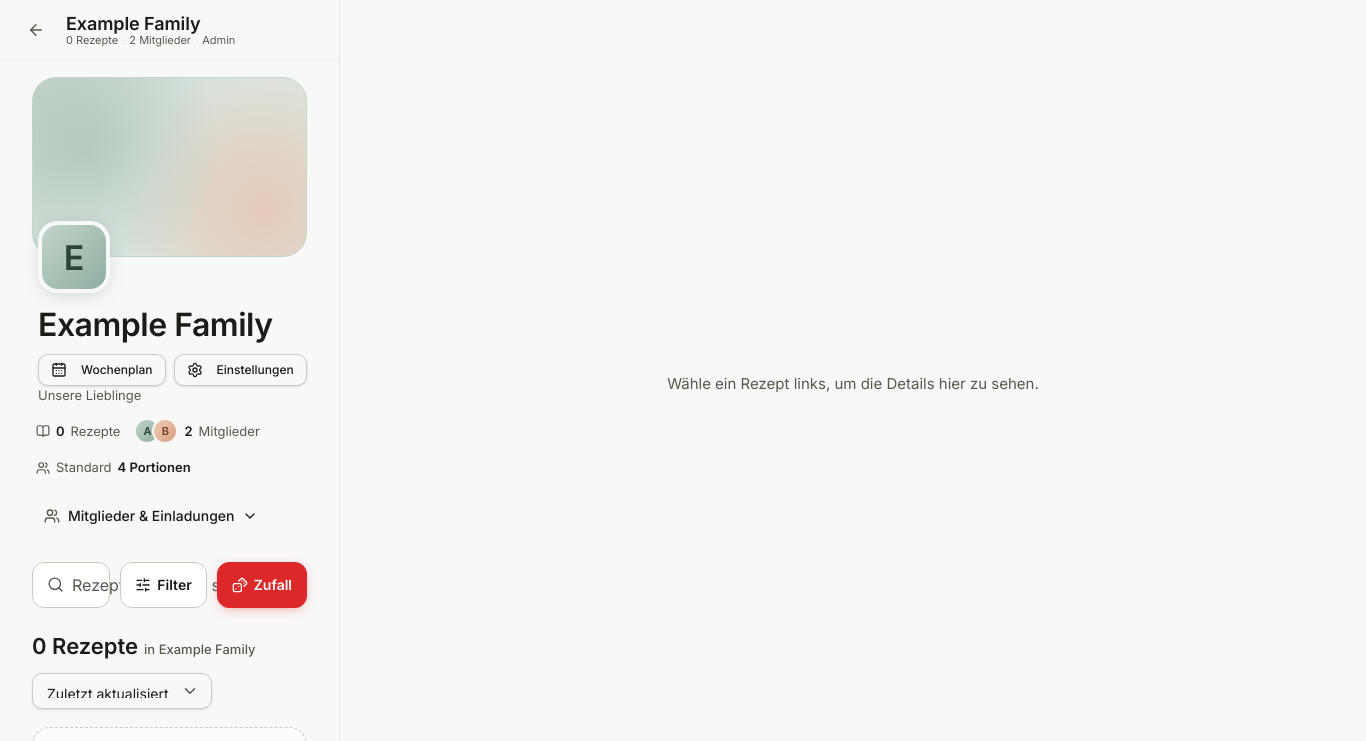
Test: <GroupDetailPage /> › Zufall surfaces a German message when no recipe matches
Click the button "Zufall": point(262, 585) [217,562,307,608]
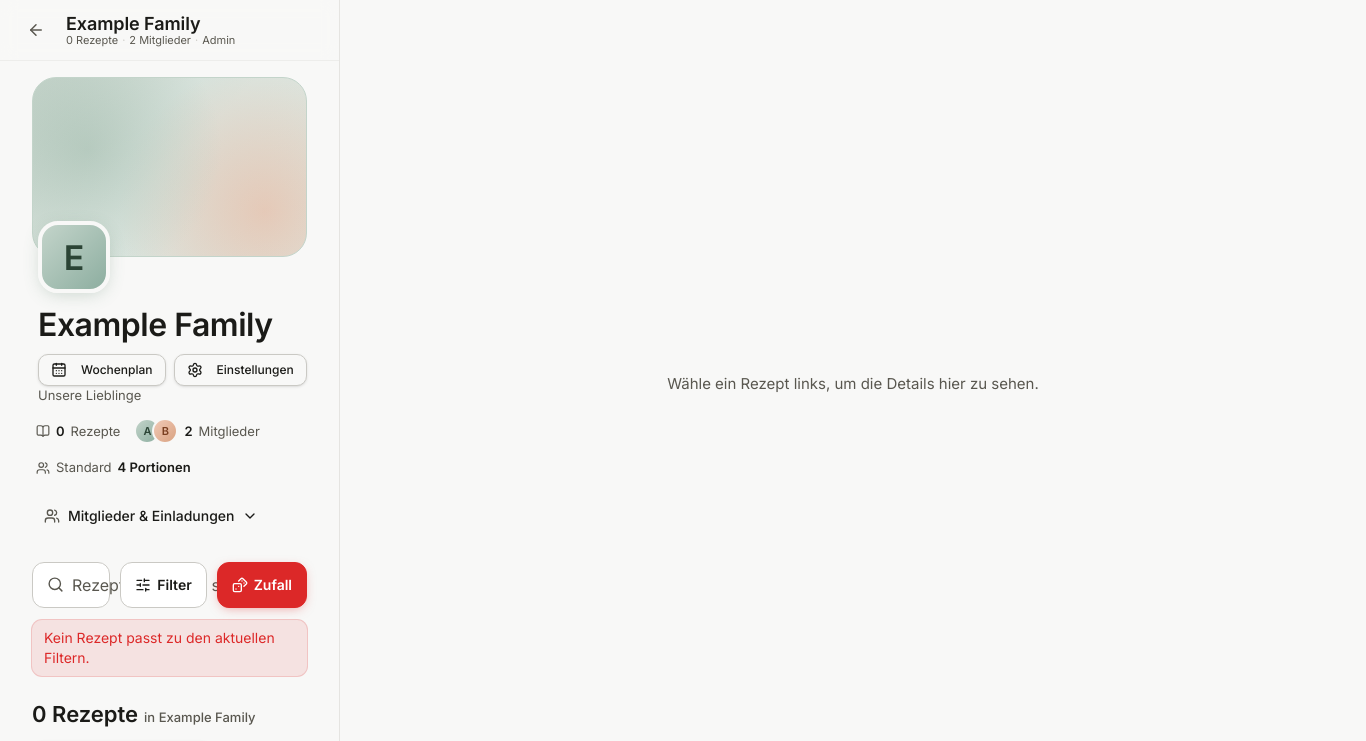
Expected: the text "Kein Rezept passt zu den aktuellen Filtern." is shown, [32,620,307,676]
